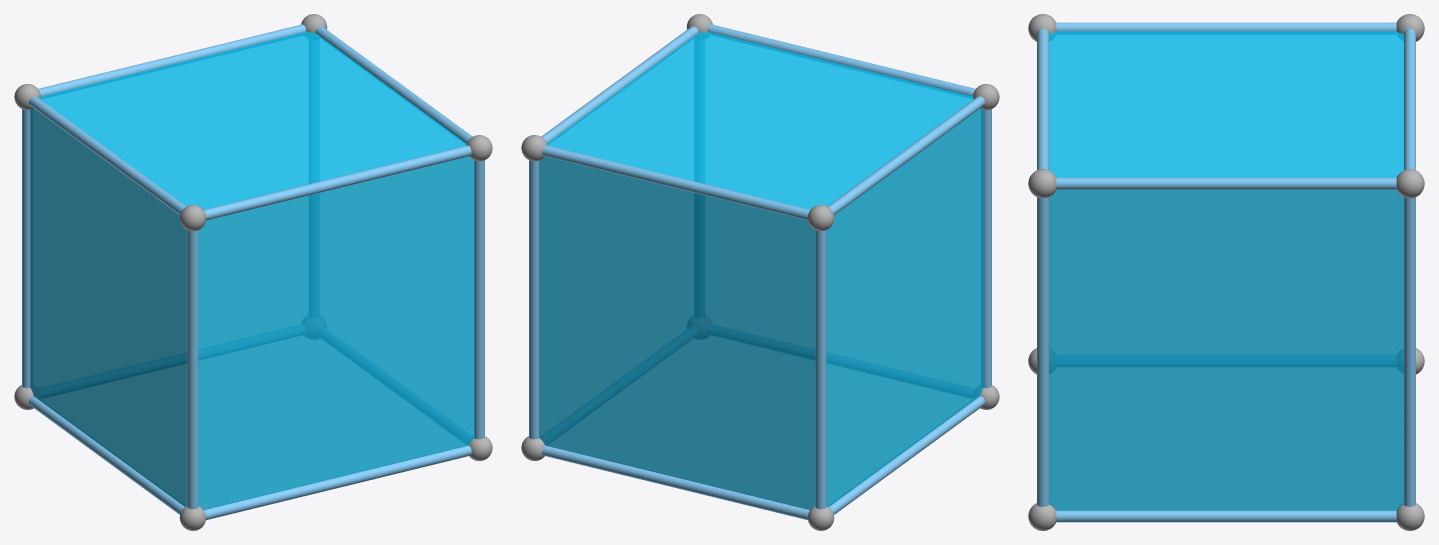
3 views of the same model, side by side, from view 1: azimuth 30°, elevation 25°; view 2: azimuth 150°, elevation 25°; view 3: azimuth 270°, elevation 25° (orthographic). The views are drawn at different scales.
Size of the model in its own units: 5.51 by 5.51 by 5.51.
